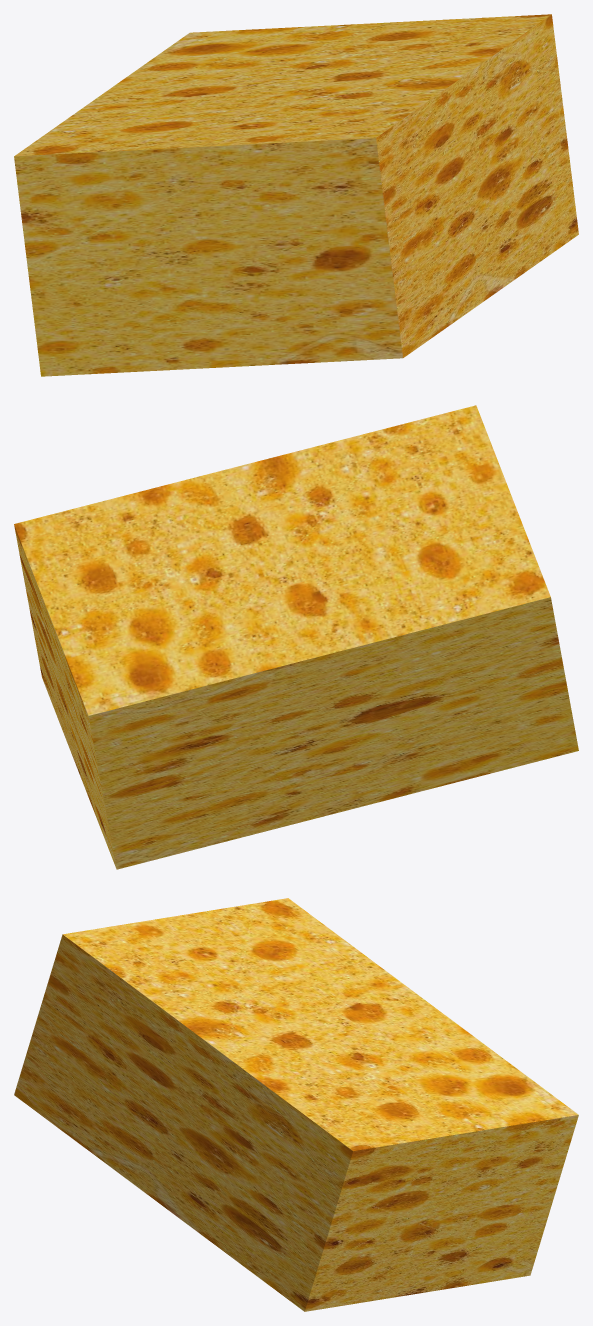
Rendered from schwamm.gltf.
3 renders of one model, top to bottom at view 1: azimuth 30°, elevation 25°; view 2: azimuth 150°, elevation 25°; view 3: azimuth 270°, elevation 25°, orthographic. The views are drawn at different scales.
Parts seen in each view (by area): view 1: Cube; view 2: Cube; view 3: Cube.
Part boxes in pixels (x1,y1,x2,y2): Cube: [14, 14, 578, 376]; Cube: [14, 405, 578, 869]; Cube: [14, 898, 578, 1311].
Size of the model in its own units: 2.54 by 1.48 by 2.62.
1 material, 1 textured.
